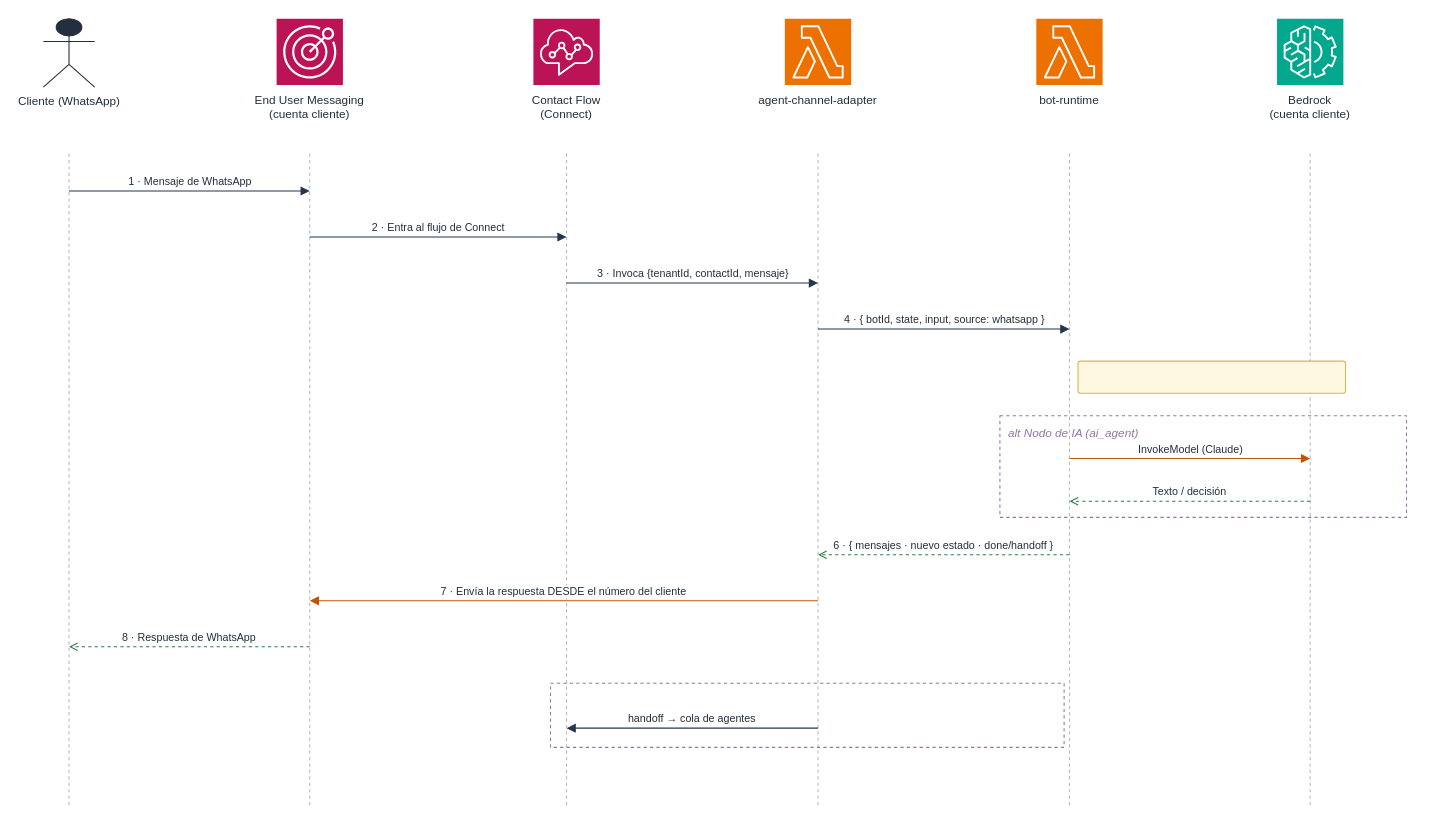
This 1445x826 diagram has some shape labels left out. The box of each missing label's shape, as (x1, y1, x2, y2) in pixels:
5 · Recorre el grafo del bot (nodos / aristas): (1077, 360, 1346, 393)
opt Derivar a humano: (549, 682, 1064, 747)
